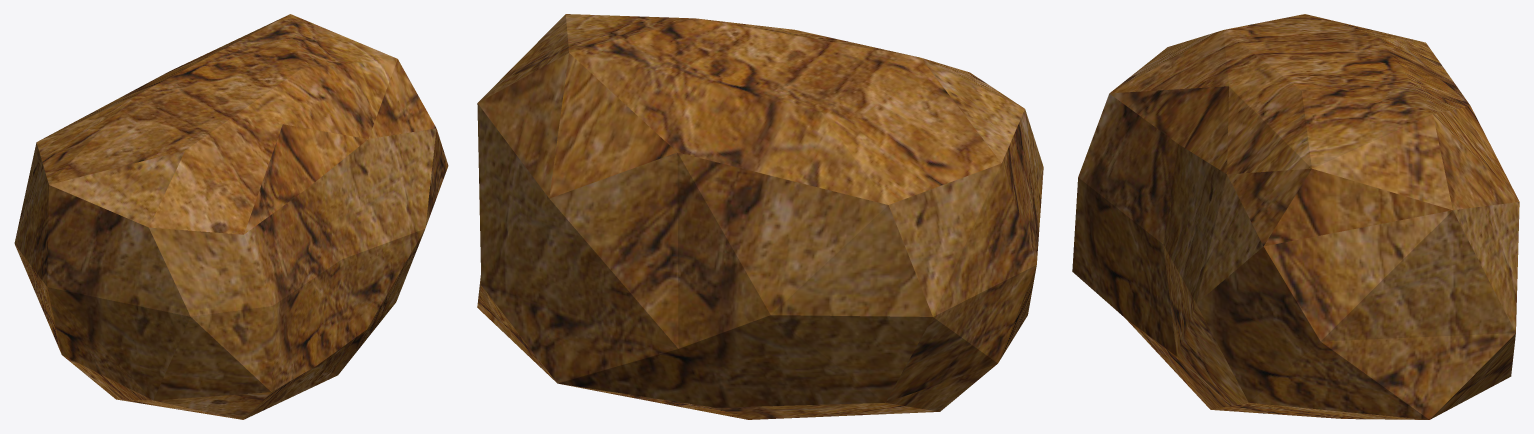
Rendered from rock4.obj.
3 renders of one model, left to right at view 1: azimuth 30°, elevation 25°; view 2: azimuth 150°, elevation 25°; view 3: azimuth 270°, elevation 25°, orthographic. The views are drawn at different scales.
Parts seen in each view (by area): view 1: Icosphere; view 2: Icosphere; view 3: Icosphere.
Part boxes in pixels (x1,y1,x2,y2): Icosphere: [14, 14, 448, 419]; Icosphere: [477, 14, 1043, 419]; Icosphere: [1072, 14, 1519, 419].
Bounding box in the file's own units: 2.45 × 1.56 × 1.94.
